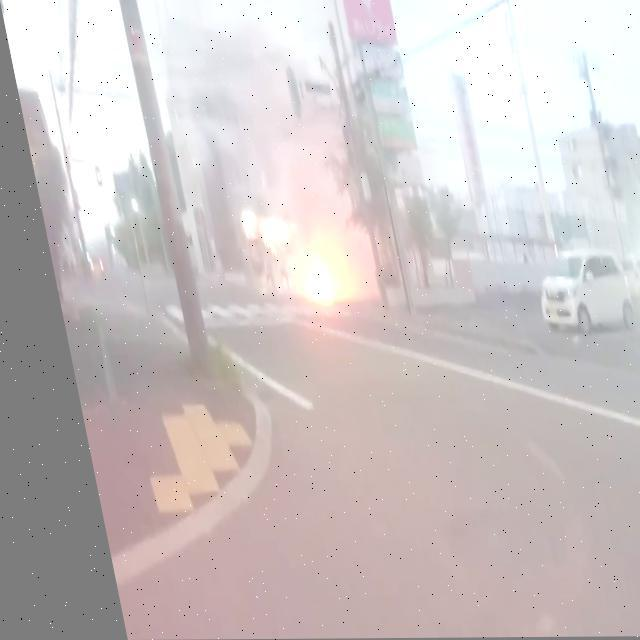Fire: (284, 258, 326, 304)
